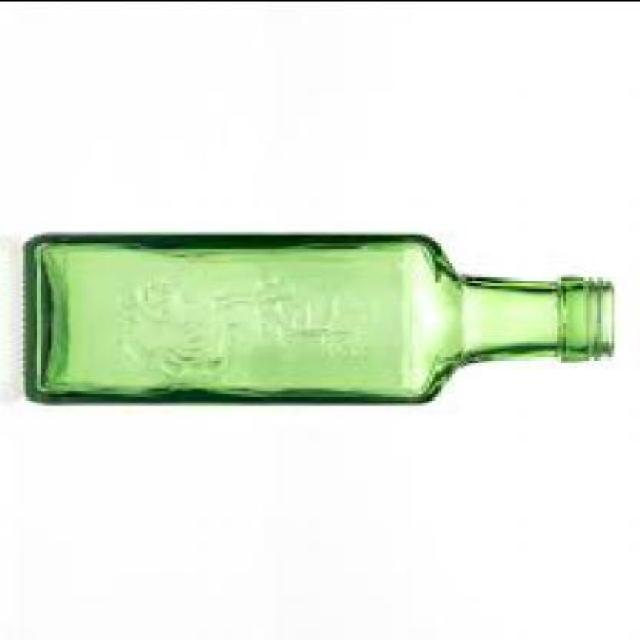GLASS: (26, 233, 617, 404)
